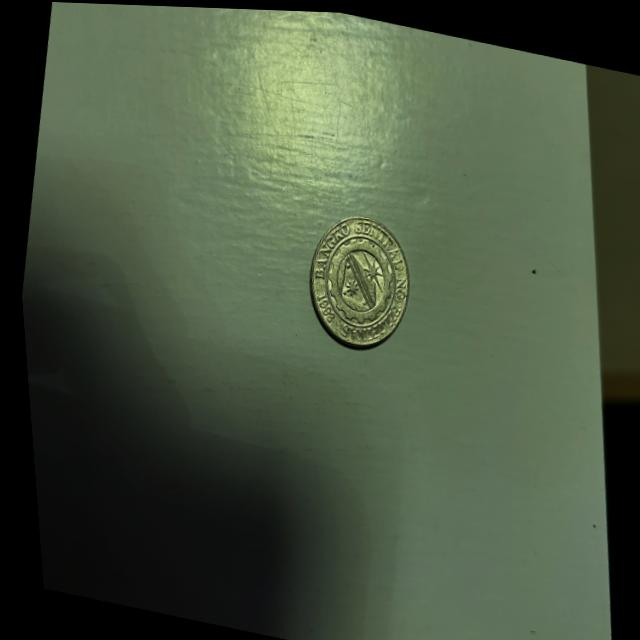1_Old_Back: (311, 222, 402, 333)
